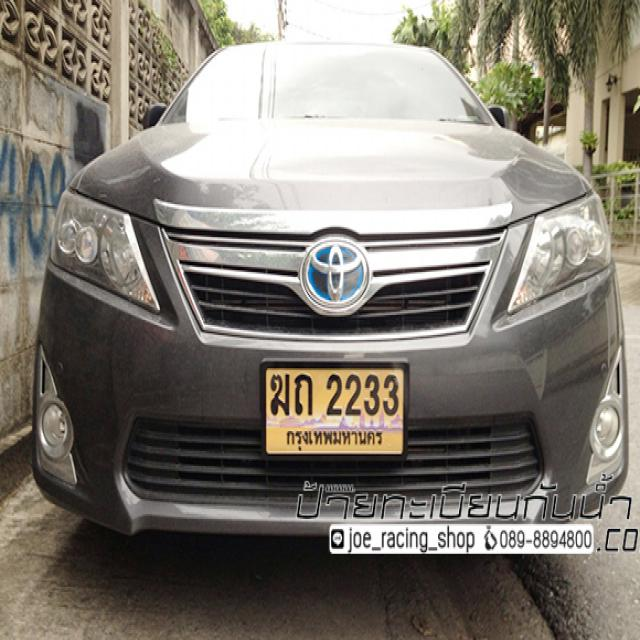license_plate: (257, 354, 408, 468)
